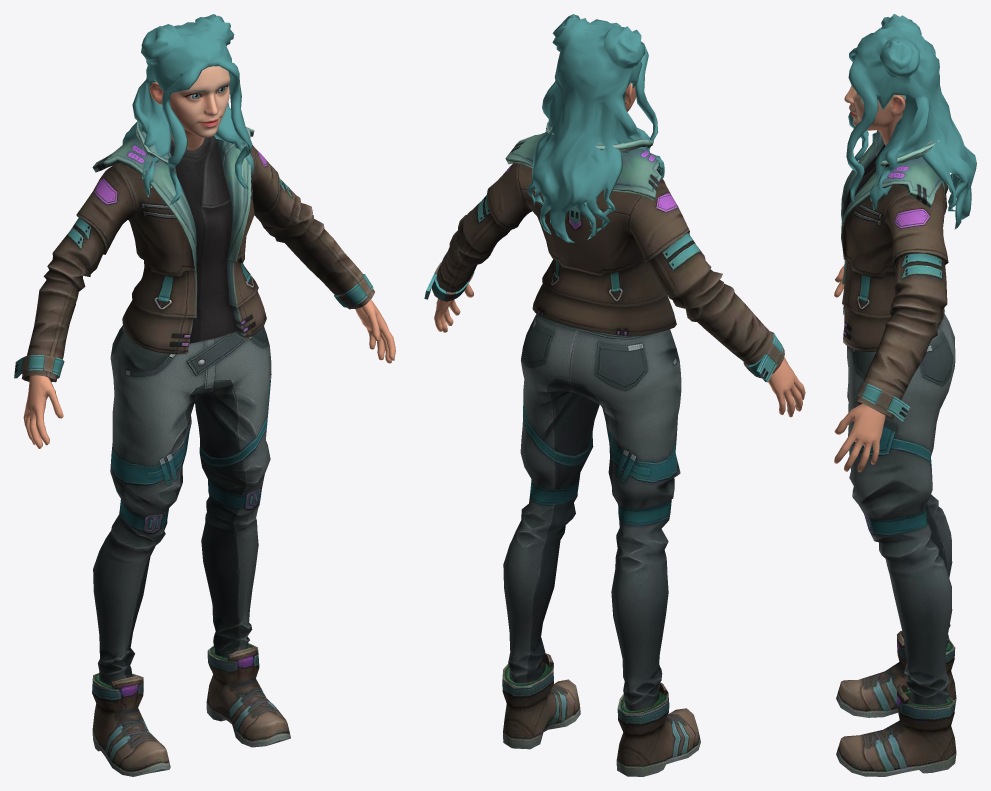
Rendered from avtar.fbx.
3 views of the same model, side by side, from view 1: azimuth 30°, elevation 25°; view 2: azimuth 150°, elevation 25°; view 3: azimuth 270°, elevation 25° (orthographic).
Visible parts, largest first — view 1: Wolf3D_Outfit_Top, Wolf3D_Outfit_Bottom, Wolf3D_Outfit_Footwear, Wolf3D_Hair, Wolf3D_Head, Wolf3D_Body; view 2: Wolf3D_Outfit_Bottom, Wolf3D_Outfit_Top, Wolf3D_Hair, Wolf3D_Outfit_Footwear, Wolf3D_Body; view 3: Wolf3D_Outfit_Top, Wolf3D_Outfit_Bottom, Wolf3D_Hair, Wolf3D_Outfit_Footwear, Wolf3D_Body, Wolf3D_Head.
Part boxes in pixels (bbox=[...]): Wolf3D_Outfit_Top: bbox=[14, 122, 374, 382]; Wolf3D_Outfit_Bottom: bbox=[93, 325, 271, 685]; Wolf3D_Outfit_Footwear: bbox=[92, 643, 290, 776]; Wolf3D_Hair: bbox=[122, 14, 254, 205]; Wolf3D_Head: bbox=[149, 66, 230, 150]; Wolf3D_Body: bbox=[23, 300, 395, 448]; Wolf3D_Outfit_Bottom: bbox=[503, 314, 681, 710]; Wolf3D_Outfit_Top: bbox=[424, 122, 784, 382]; Wolf3D_Hair: bbox=[526, 14, 664, 242]; Wolf3D_Outfit_Footwear: bbox=[502, 653, 700, 776]; Wolf3D_Body: bbox=[434, 284, 805, 417]; Wolf3D_Outfit_Top: bbox=[841, 130, 948, 421]; Wolf3D_Outfit_Bottom: bbox=[847, 314, 955, 705]; Wolf3D_Hair: bbox=[846, 14, 976, 229]; Wolf3D_Outfit_Footwear: bbox=[836, 631, 956, 776]; Wolf3D_Body: bbox=[834, 265, 885, 472]; Wolf3D_Head: bbox=[844, 85, 905, 145].
Size of the model in its own units: 92.79 by 177 by 32.34.
Materials: 8 (8 with a texture image).
